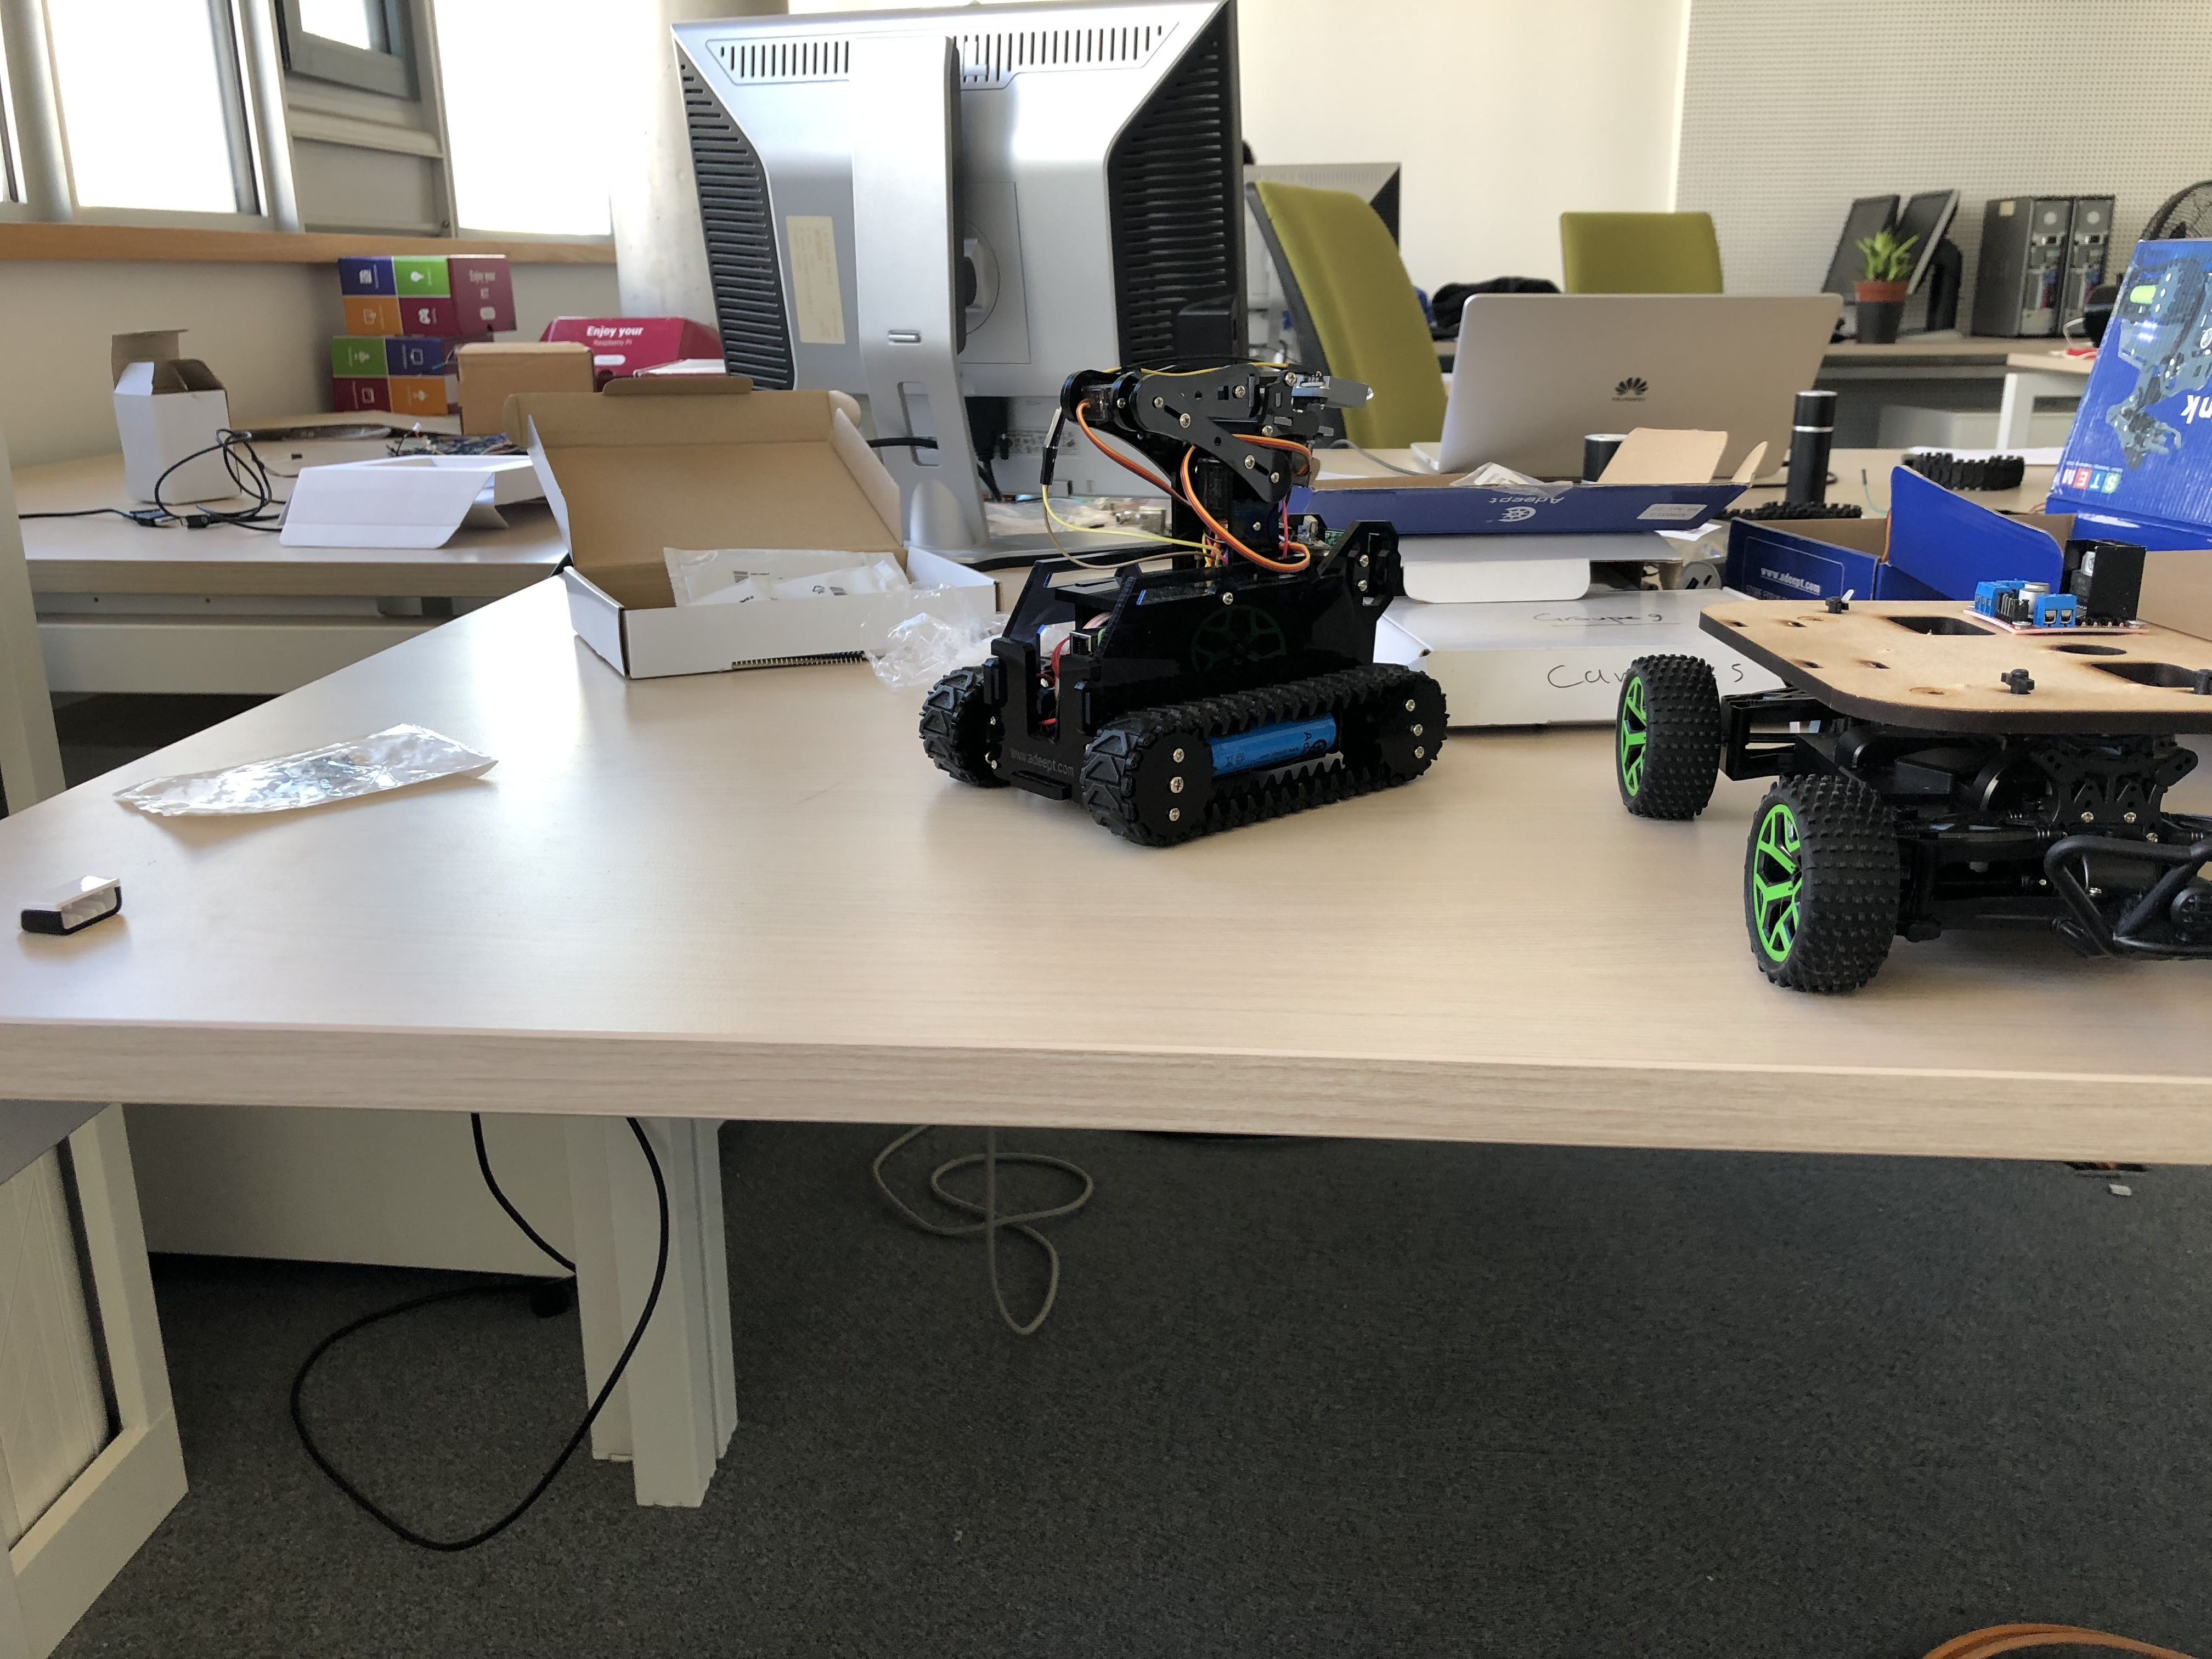rasptank: (918, 352, 1453, 850)
